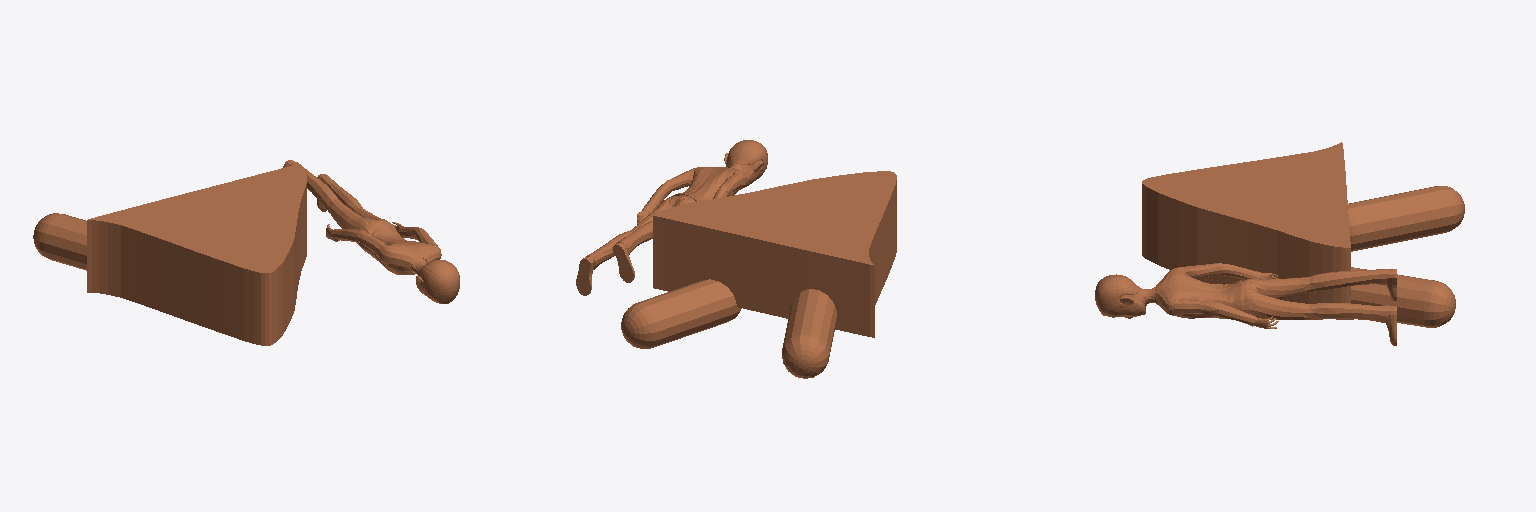
File: spriteTest1.obj
The picture shows the model from 3 angles: view 1: azimuth 30°, elevation 25°; view 2: azimuth 150°, elevation 25°; view 3: azimuth 270°, elevation 25°; orthographic projection.
Parts seen in each view (by area): view 1: Object.3, Object.7, Object.1; view 2: Object.3, Object.7, Object.2, Object.1; view 3: Object.3, Object.7, Object.1, Object.2.
Part boxes in pixels (x1,y1,x2,y2): Object.3: (87, 164, 306, 345); Object.7: (283, 160, 459, 303); Object.1: (33, 213, 86, 270); Object.3: (653, 171, 896, 337); Object.7: (576, 140, 767, 295); Object.2: (621, 279, 741, 348); Object.1: (782, 289, 836, 378); Object.3: (1142, 142, 1350, 319); Object.7: (1095, 263, 1396, 345); Object.1: (1348, 186, 1464, 251); Object.2: (1351, 267, 1455, 327).
Size of the model in its own units: 0.3998 by 0.1294 by 0.4613.